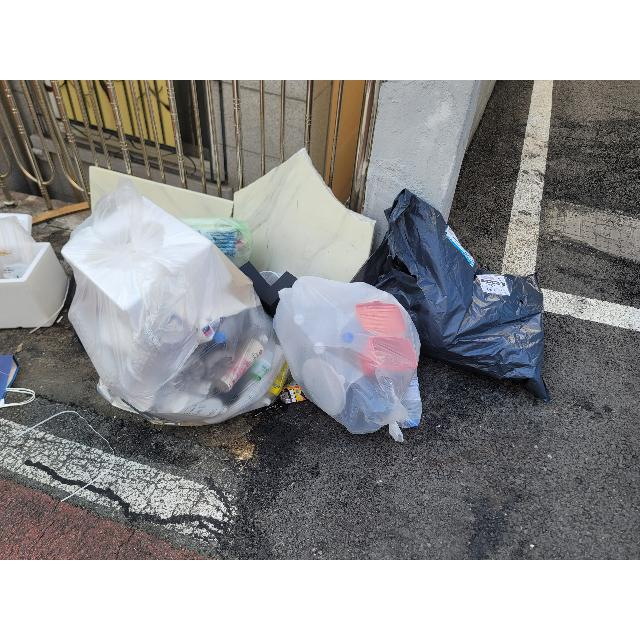other_trashbag: (58, 194, 298, 414), (363, 192, 570, 398), (286, 266, 432, 440), (0, 216, 53, 334)
